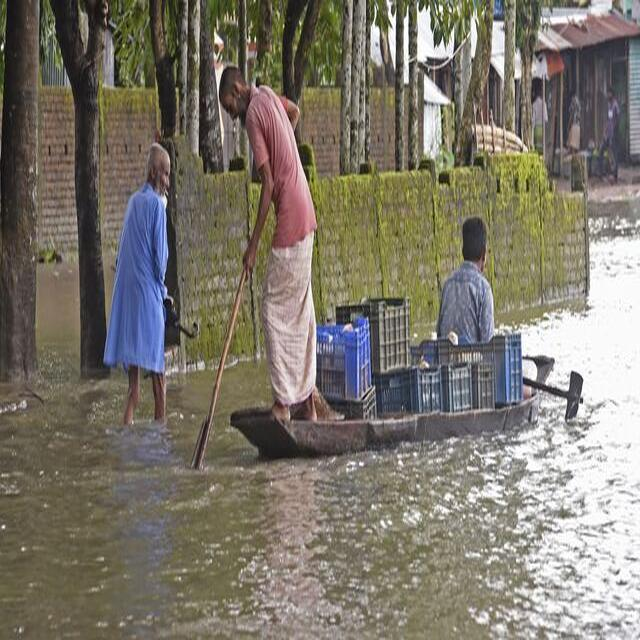Person-RiskLevel2: (104, 140, 199, 440)
Person-RiskLevel3: (206, 72, 330, 429), (425, 208, 536, 405)
